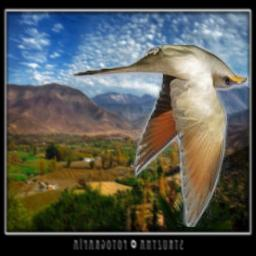Cuckoo: (72, 45, 247, 227)
